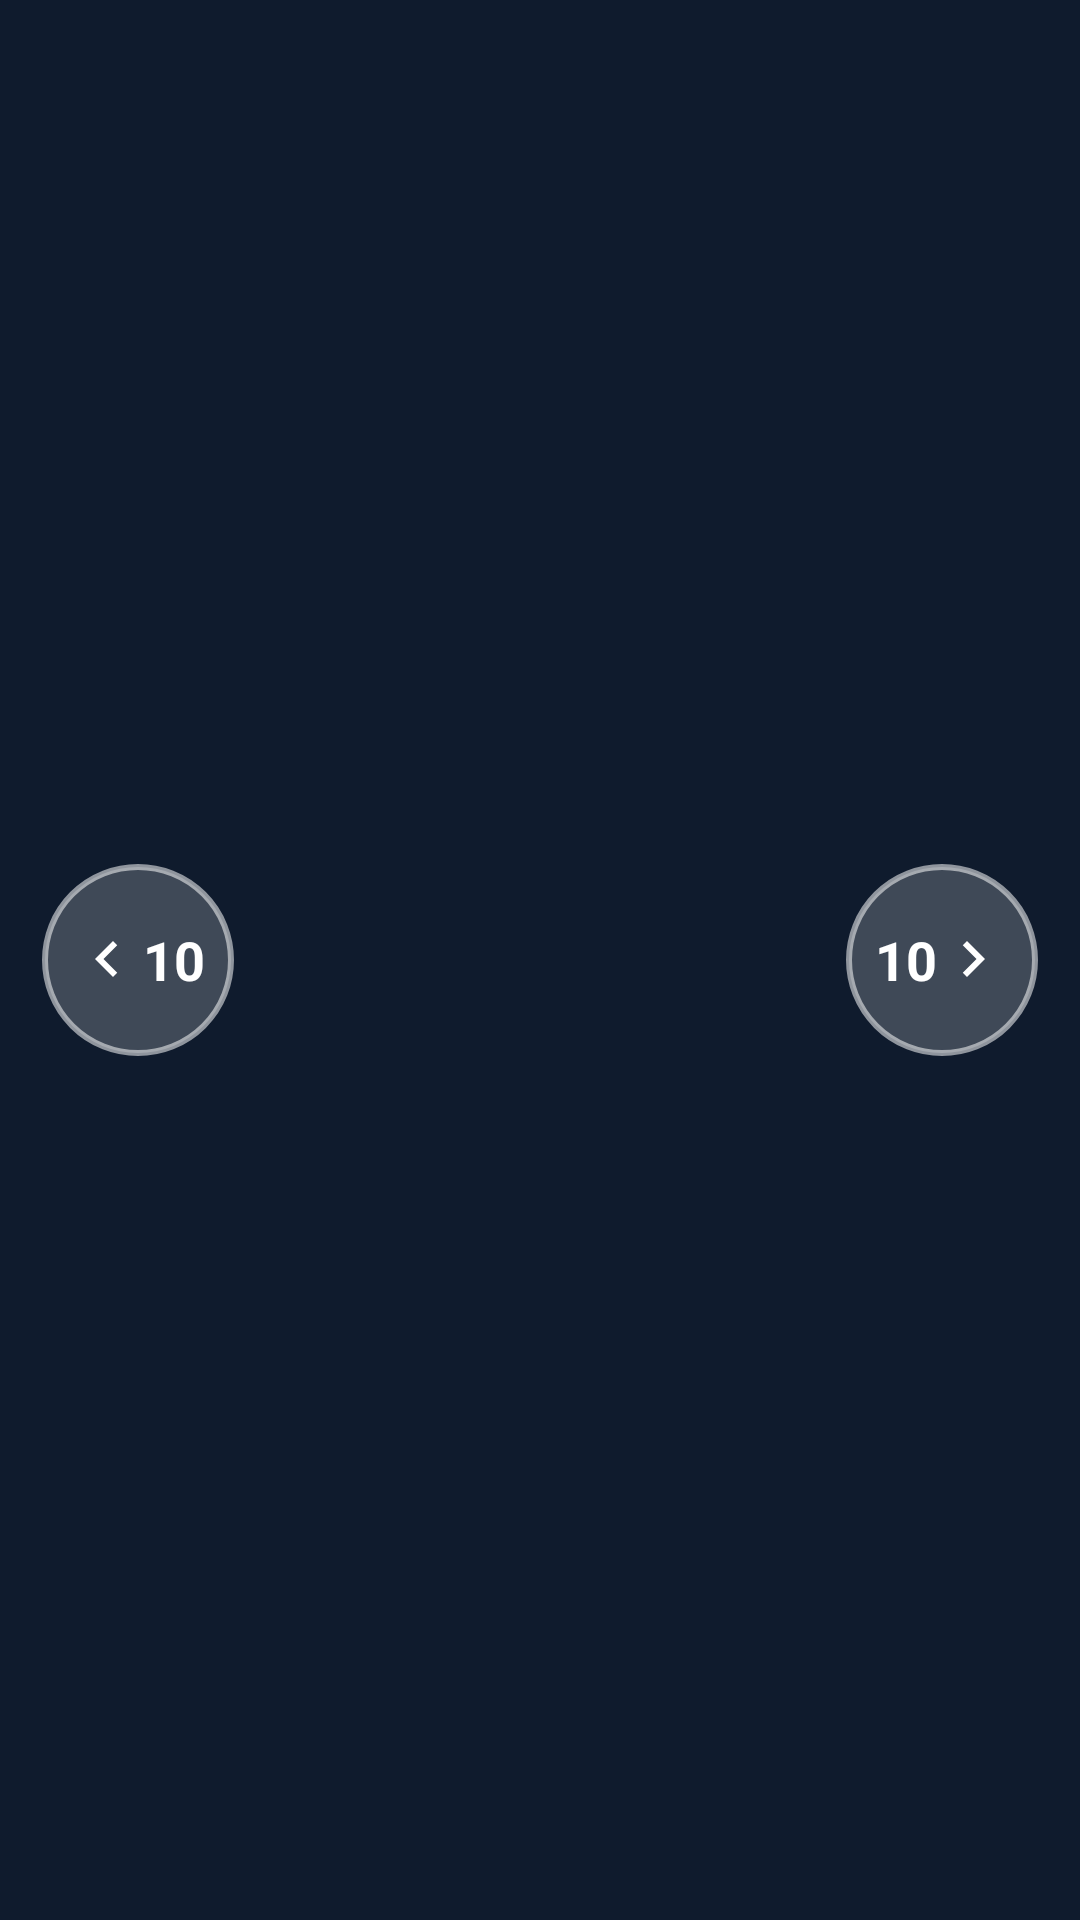

Icons on this 1080 x 1920 Android screen, each with the point to tap as (x,y):
flecha der: (974,959)
flecha izq: (106,959)
